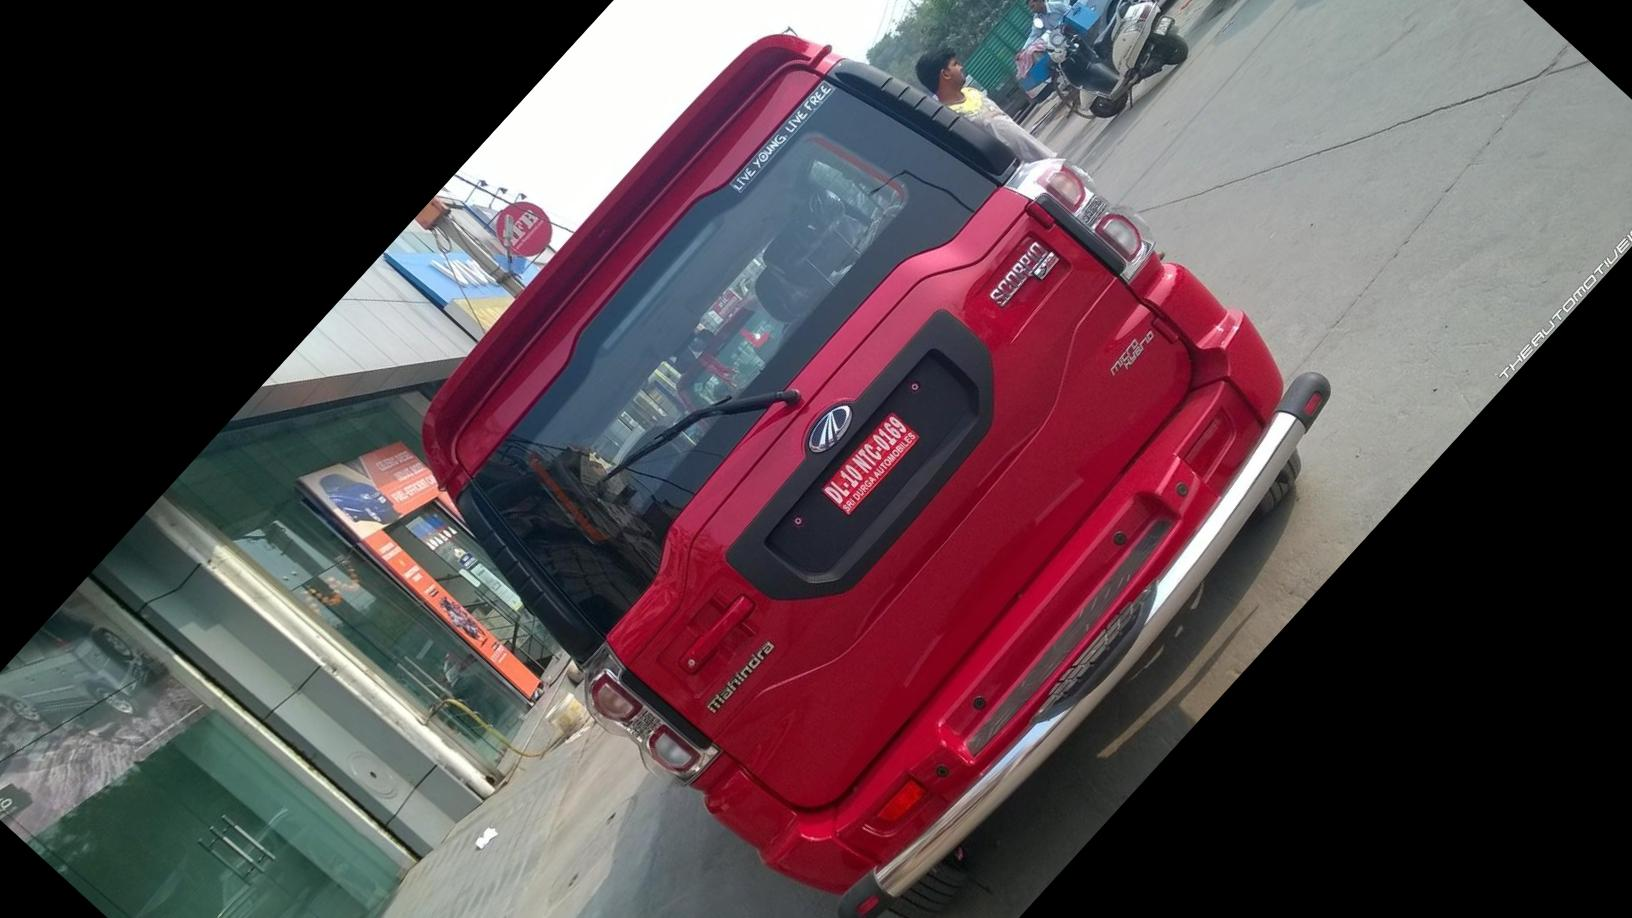plate: (820, 405, 928, 519)
